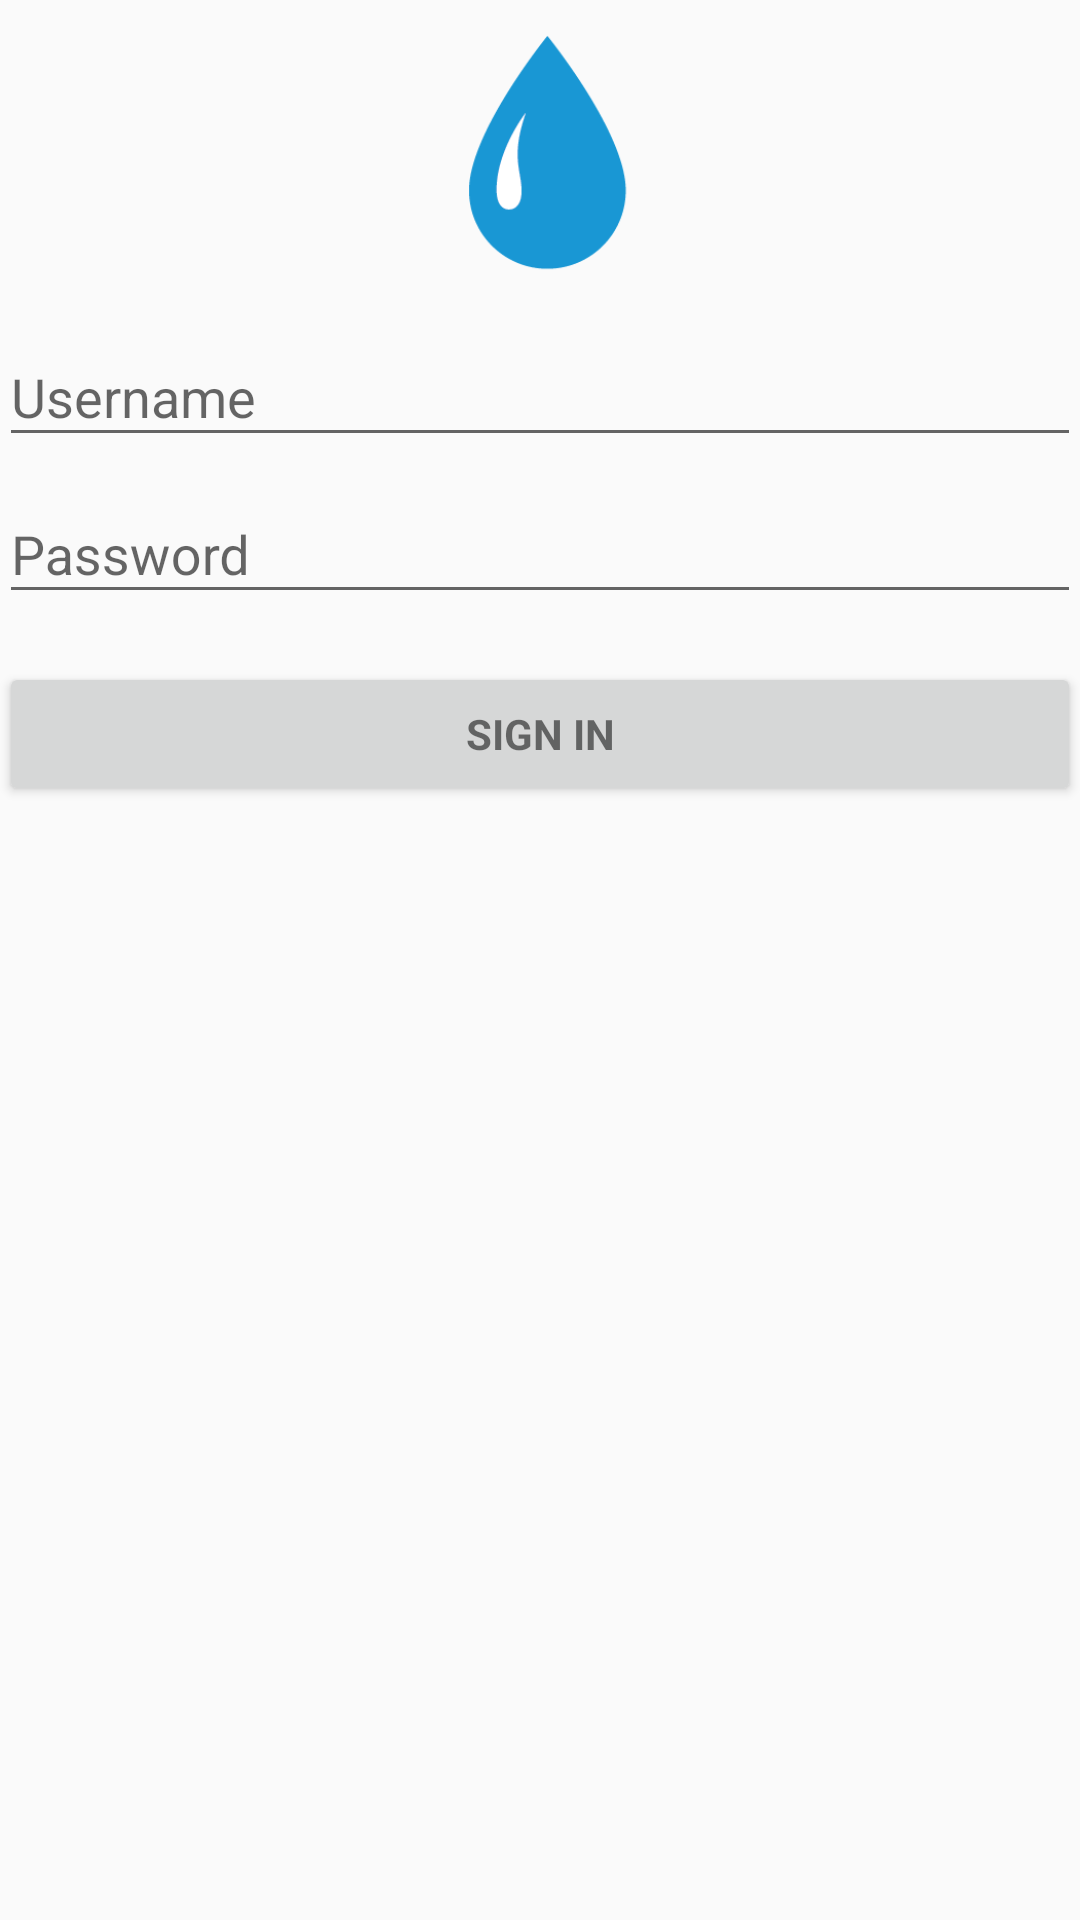

Icons on this 1080px×1920px Android screen, each with the point to tap as point (x, y):
water drop: point (548, 152)
